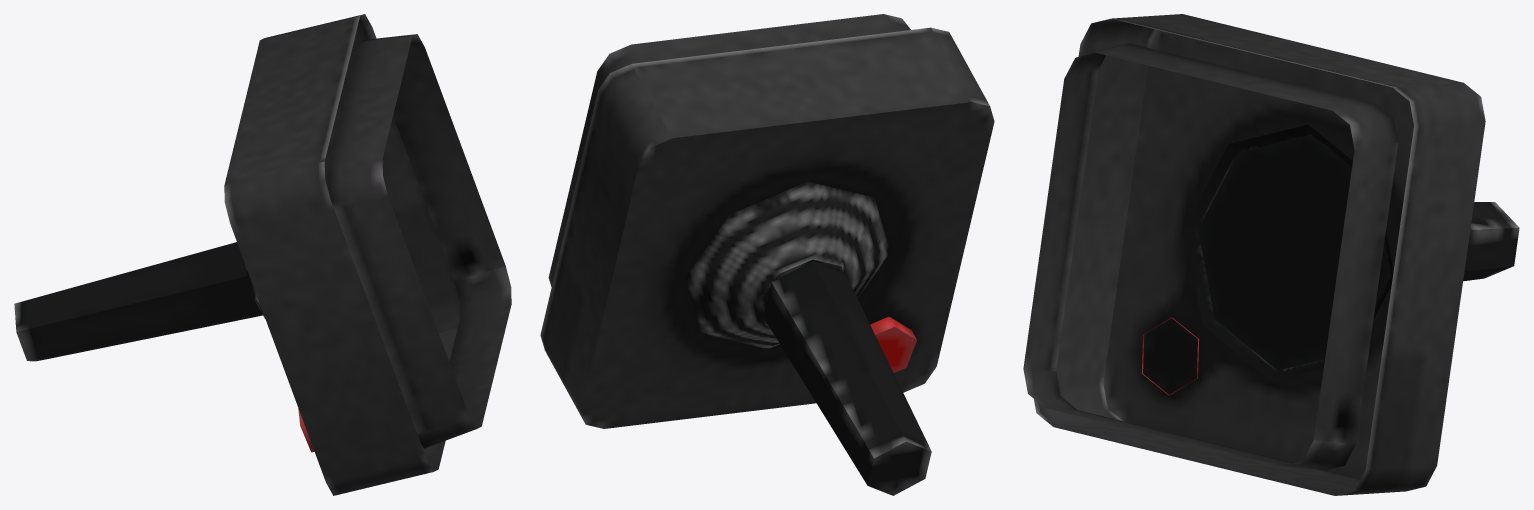
Rendered from Atari_Controller_A.fbx.
3 renders of one model, left to right at view 1: azimuth 30°, elevation 25°; view 2: azimuth 150°, elevation 25°; view 3: azimuth 270°, elevation 25°, orthographic. The views are drawn at different scales.
Visible parts, largest first — view 1: Atari_Controller_A; view 2: Atari_Controller_A; view 3: Atari_Controller_A.
Boxes of the visible parts, box(x1,y1,x2,y2) form: Atari_Controller_A: box(14, 14, 511, 495); Atari_Controller_A: box(540, 14, 994, 495); Atari_Controller_A: box(1023, 14, 1519, 495).
Bounding box in the file's own units: 0.1012 × 0.0817 × 0.089.
